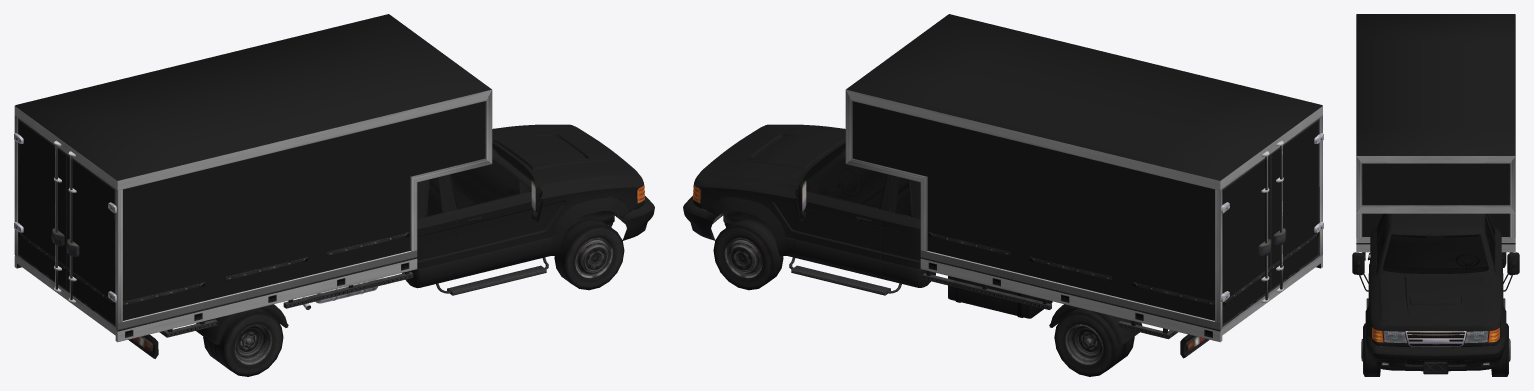
The model's file is truck.glb.
3 views of the same model, side by side, from view 1: azimuth 30°, elevation 25°; view 2: azimuth 150°, elevation 25°; view 3: azimuth 270°, elevation 25° (orthographic). The views are drawn at different scales.
Visible parts, largest first — view 1: hood_body_0, Object001_bottom_and plastic_0, wheels_tier_0, bottom_bottom_and plastic_0, interior_void_0, glass_glass_0, wheels_rim_0; view 2: hood_body_0, Object001_bottom_and plastic_0, bottom_bottom_and plastic_0, wheels_tier_0, interior_void_0, glass_glass_0, wheels_rim_0; view 3: hood_body_0, Object001_bottom_and plastic_0 (×2), interior_void_0, grill_bottom_and plastic_0, wheels_tier_0, Object008_lights_0, glass_glass_0, Object008_bottom_and plastic_0.
Boxes of the visible parts, x1,y1,x2,y2 form: hood_body_0: (15,14,654,324); Object001_bottom_and plastic_0: (14,89,641,342); wheels_tier_0: (203,218,624,376); bottom_bottom_and plastic_0: (14,133,413,344); interior_void_0: (427,143,534,216); glass_glass_0: (427,161,519,215); wheels_rim_0: (234,237,613,365); hood_body_0: (683,14,1322,324); Object001_bottom_and plastic_0: (695,89,1322,342); bottom_bottom_and plastic_0: (922,133,1323,344); wheels_tier_0: (713,218,1134,376); interior_void_0: (803,143,910,216); glass_glass_0: (818,161,910,215); wheels_rim_0: (724,237,1103,365); hood_body_0: (1356,14,1515,371); Object001_bottom_and plastic_0 (×2): (1352,156,1519,374); interior_void_0: (1377,213,1494,273); grill_bottom_and plastic_0: (1393,331,1478,364); wheels_tier_0: (1363,323,1508,376); Object008_lights_0: (1372,327,1499,343); glass_glass_0: (1377,214,1494,264); Object008_bottom_and plastic_0: (1372,327,1499,343).
Bounding box in the file's own units: 252 × 99.15 × 84.29.
Materials: 9 (6 with a texture image).
